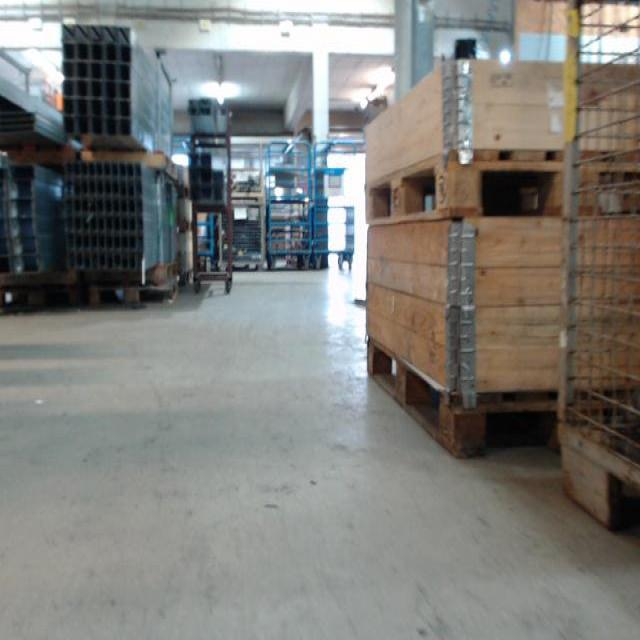pallet: (365, 334, 577, 461), (365, 139, 639, 231), (0, 283, 84, 318), (86, 280, 178, 310), (181, 266, 196, 288), (180, 184, 194, 199), (180, 219, 195, 233)
stillage: (540, 0, 638, 544), (223, 203, 267, 270), (226, 137, 265, 202)
